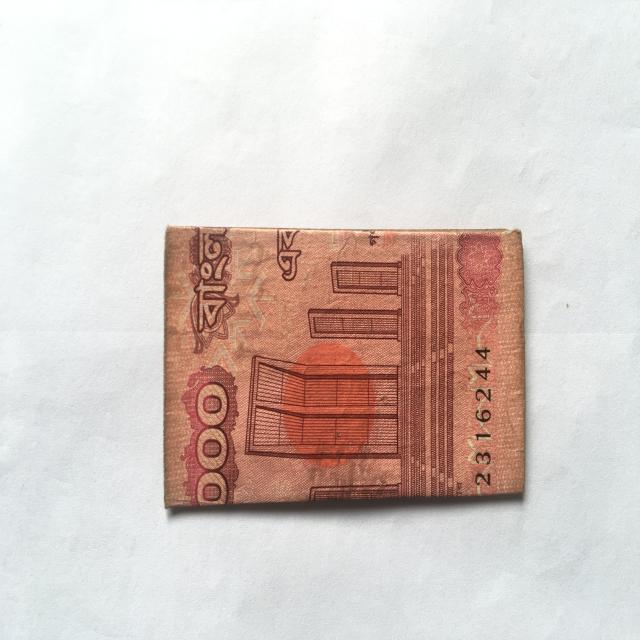Taka: (158, 220, 532, 510)
